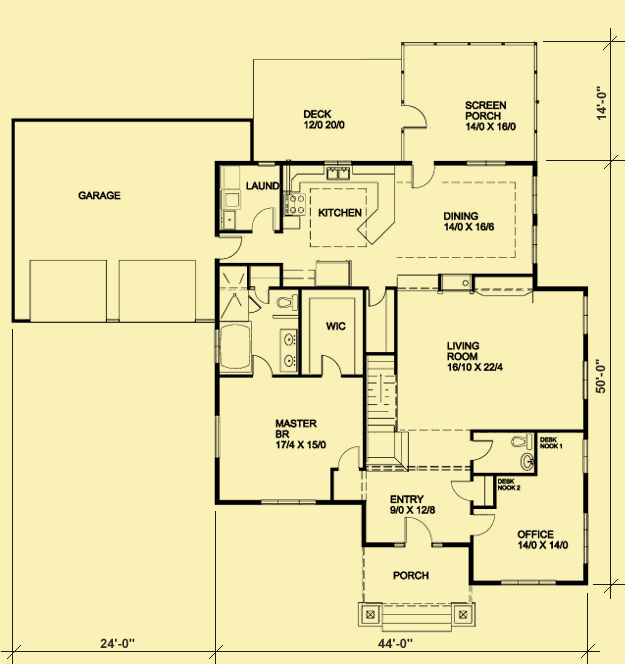door: (400, 512, 434, 549), (397, 100, 430, 137), (407, 160, 442, 191), (335, 442, 364, 477), (246, 204, 278, 234), (467, 511, 499, 540), (214, 235, 247, 262), (466, 434, 497, 462), (316, 351, 344, 380), (447, 475, 474, 502), (364, 283, 390, 311), (247, 351, 272, 378), (250, 283, 273, 307)
large sink: (274, 290, 300, 314), (504, 434, 540, 450)
small sink: (278, 325, 302, 375), (516, 450, 535, 475)
stairs: (360, 349, 417, 471), (380, 602, 454, 638)
tub: (220, 321, 253, 374)
twin sink: (323, 161, 358, 183)
windows: (528, 171, 542, 269), (257, 494, 318, 511), (497, 577, 561, 591), (578, 509, 592, 571), (463, 156, 509, 173), (579, 293, 595, 340), (578, 358, 593, 404), (578, 435, 592, 482), (213, 410, 221, 466)
